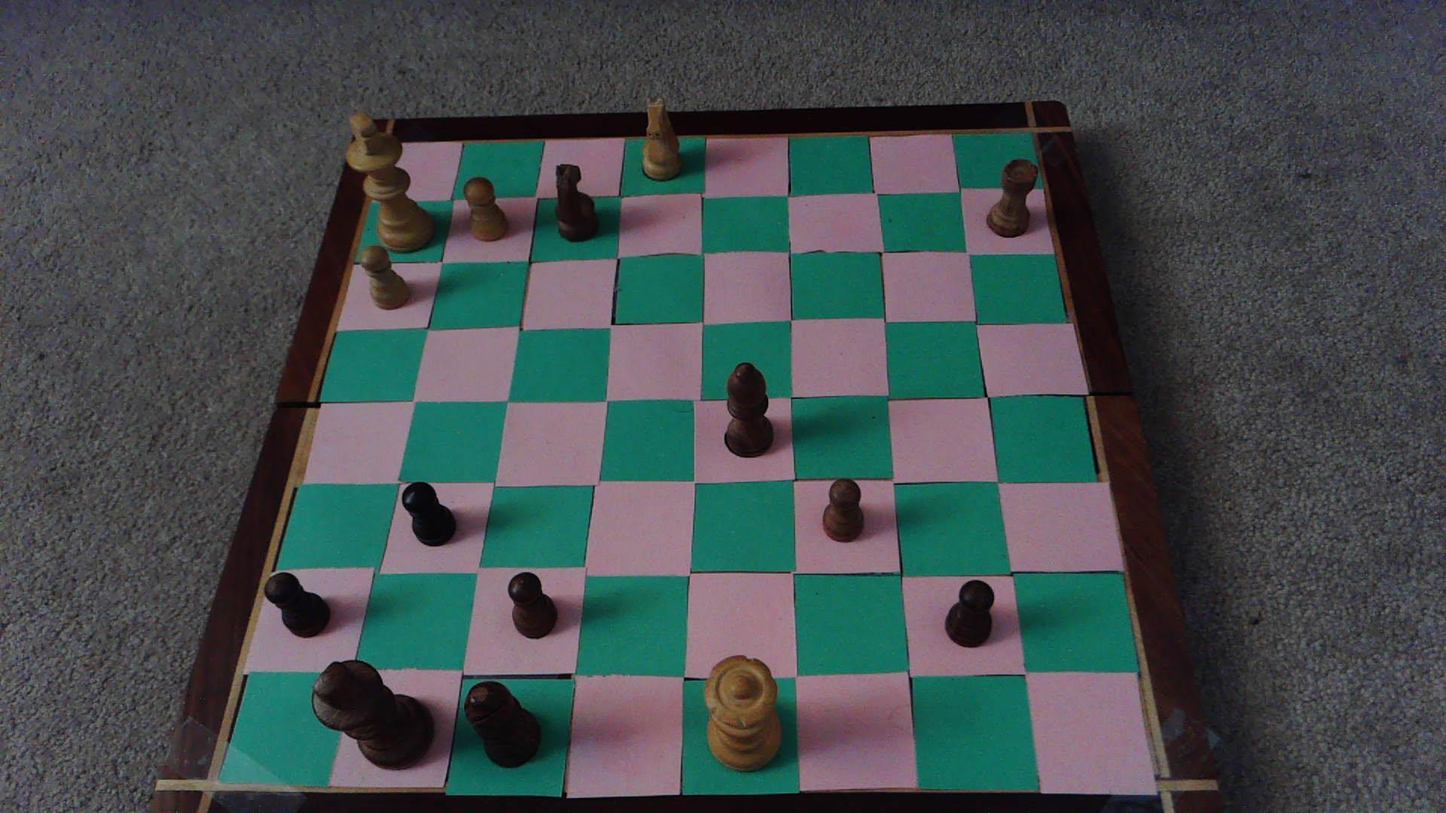dark_piece: (313, 661, 432, 769), (465, 681, 540, 767), (725, 362, 773, 455), (265, 574, 329, 636), (988, 159, 1037, 236), (402, 482, 454, 546), (508, 572, 557, 638), (556, 164, 598, 241), (945, 580, 993, 647), (823, 479, 863, 541)
white_piece: (347, 112, 434, 252), (704, 655, 780, 770), (642, 99, 681, 180), (361, 245, 409, 309), (464, 176, 506, 241)
